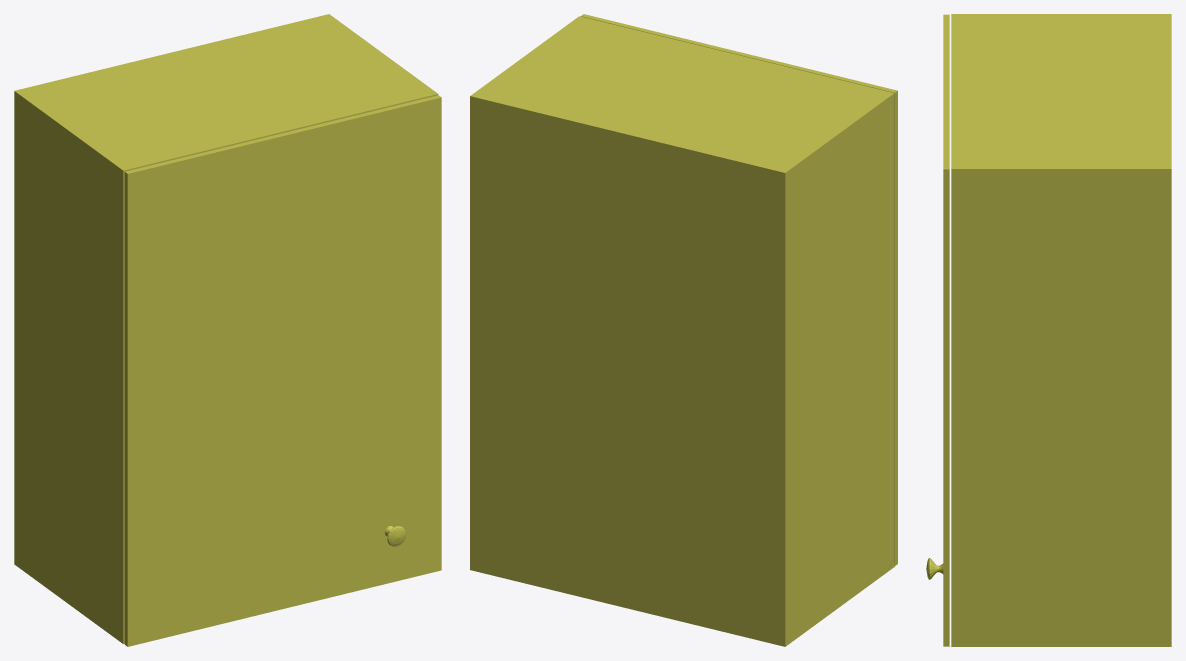
The model's file is eteks-kitchenuppercabinet.glb.
The picture shows the model from 3 angles, left to right: view 1: azimuth 30°, elevation 25°; view 2: azimuth 150°, elevation 25°; view 3: azimuth 270°, elevation 25°; orthographic projection.
Visible parts, largest first — view 1: sweethome3d_opening_on_hinge_1_door, Corps; view 2: Corps, sweethome3d_opening_on_hinge_1_door; view 3: Corps, sweethome3d_opening_on_hinge_1_door.
Part boxes in pixels (x1,y1,x2,y2): sweethome3d_opening_on_hinge_1_door: (124, 95, 441, 646); Corps: (14, 14, 438, 643); Corps: (470, 16, 894, 646); sweethome3d_opening_on_hinge_1_door: (580, 14, 897, 565); Corps: (951, 14, 1171, 646); sweethome3d_opening_on_hinge_1_door: (943, 14, 949, 646).
Size of the model in its own units: 60 by 86.2 by 40.11.
